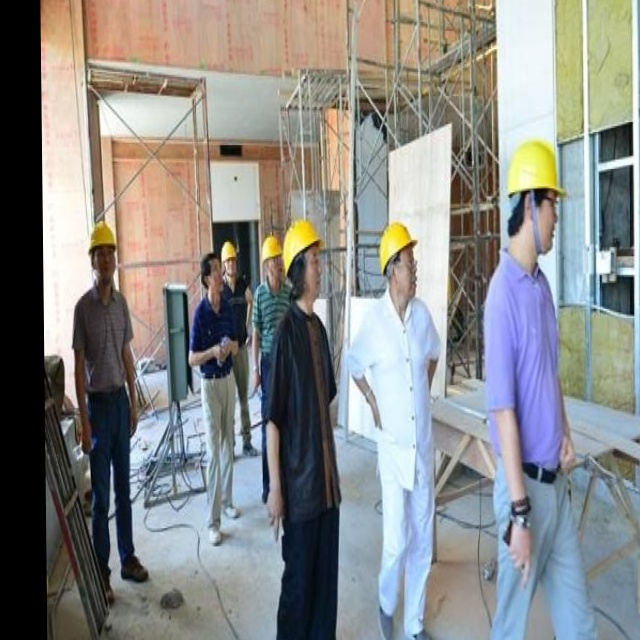Con_Casco: (504, 138, 567, 250), (379, 221, 420, 303)
